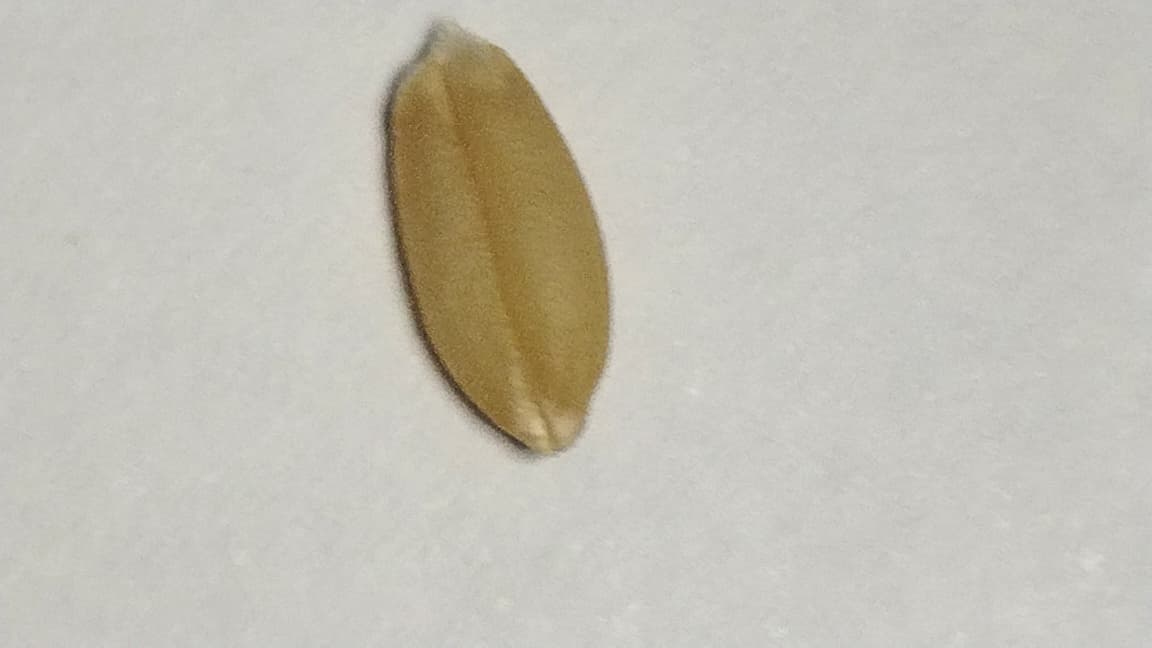healthy: (385, 24, 612, 453)
